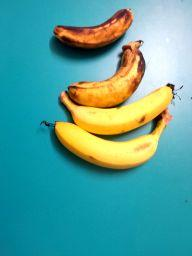banana: (36, 107, 171, 171), (56, 80, 177, 137), (64, 37, 148, 109), (50, 6, 136, 56)
